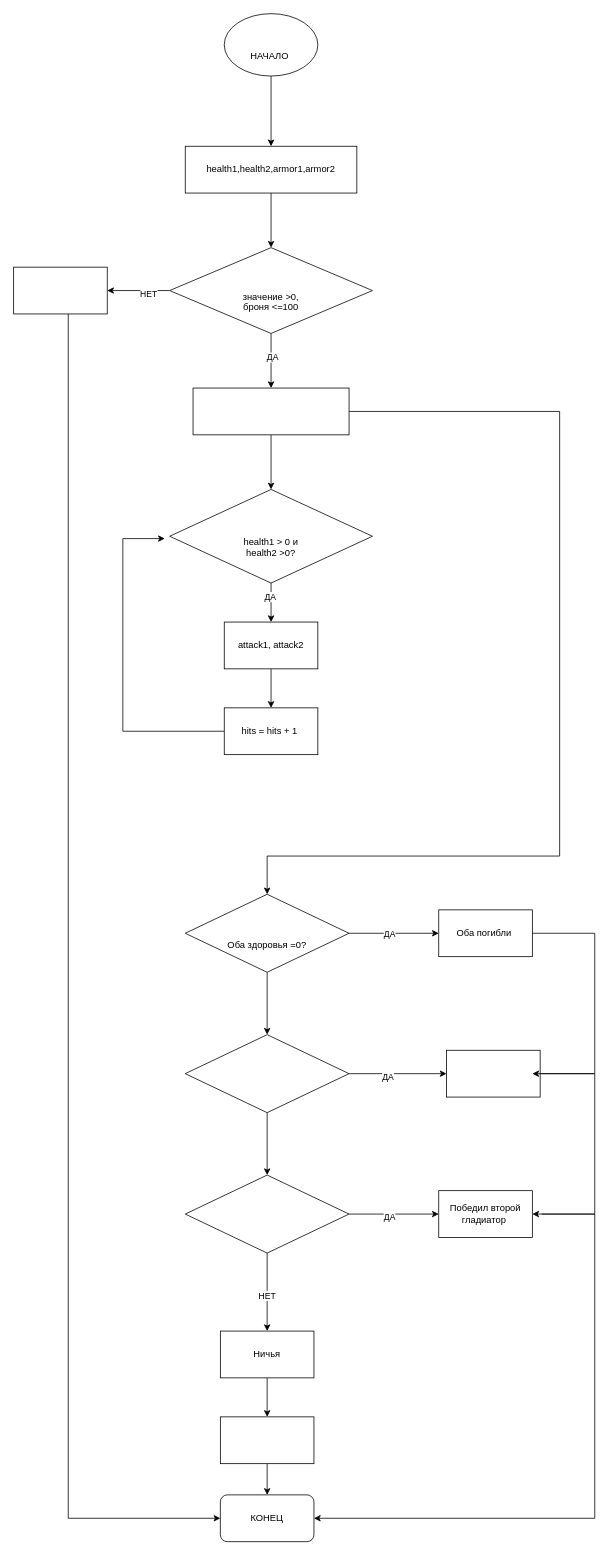
The diagram is 615 pixels wide and 1555 high, and some of its shapes have lost their labels. The centre of each missing label's shape, as x and y in pixels:
health1>healt2?: the point at 266,1073
health2>healt1?: the point at 266,1213
hits = 0: the point at 270,411
Вывод ошибки: the point at 60,290
Победил первый гладиатор: the point at 493,1073
Ударов за бой; hits: the point at 267,1440
